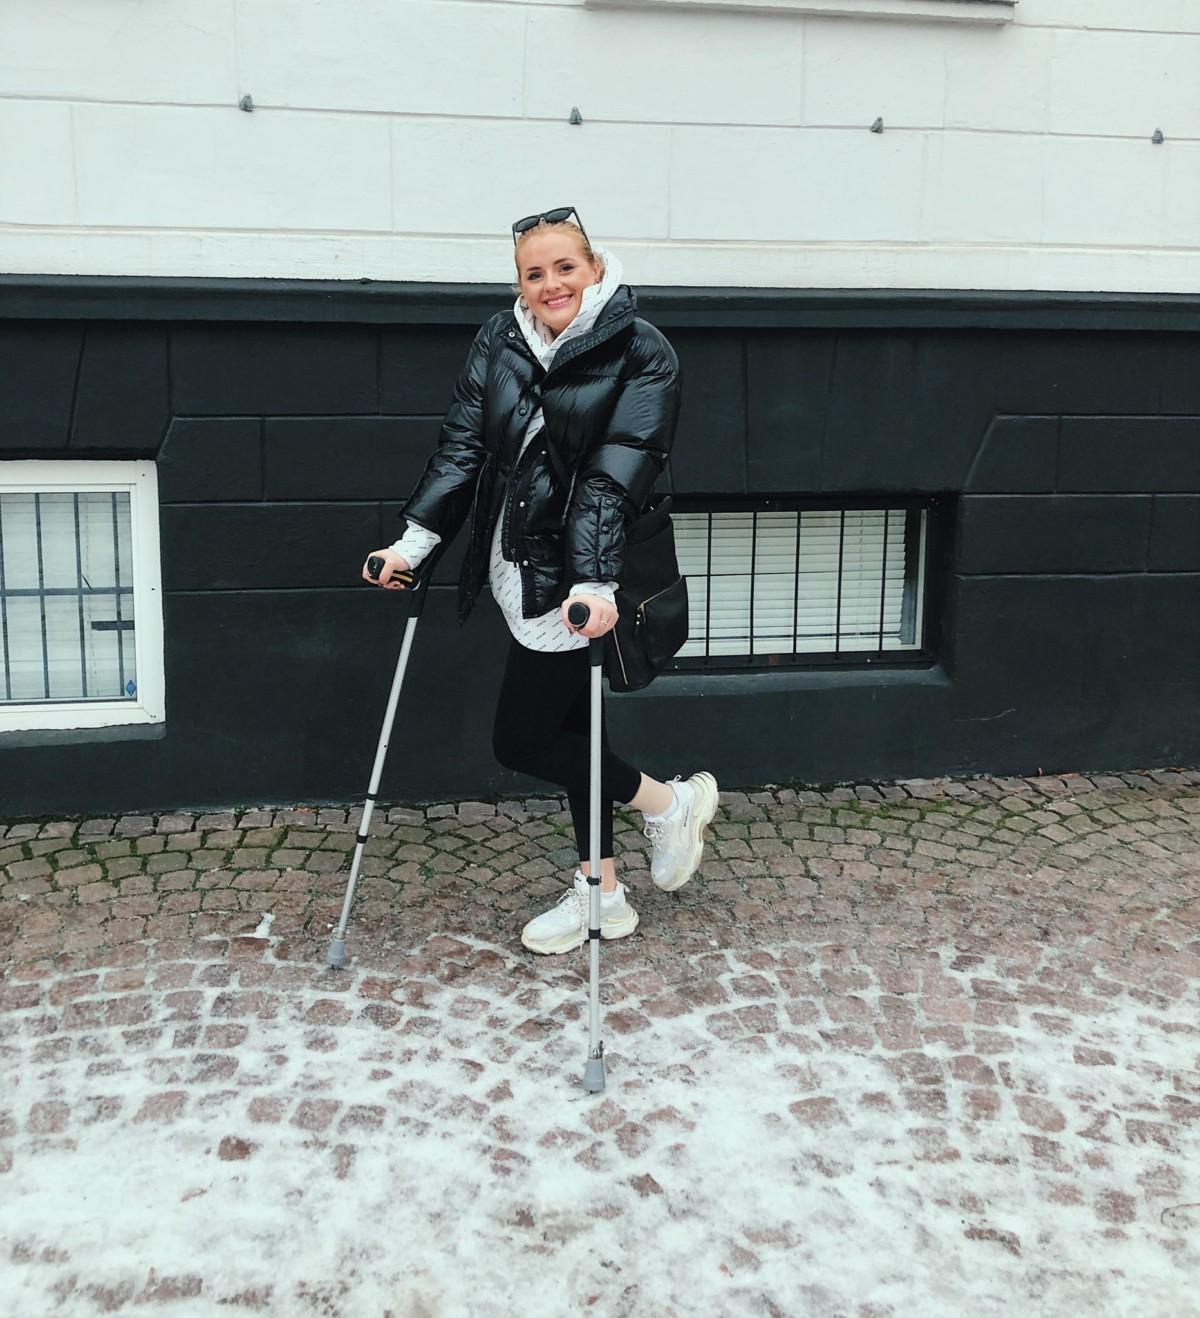crutches: (330, 204, 718, 1090)
